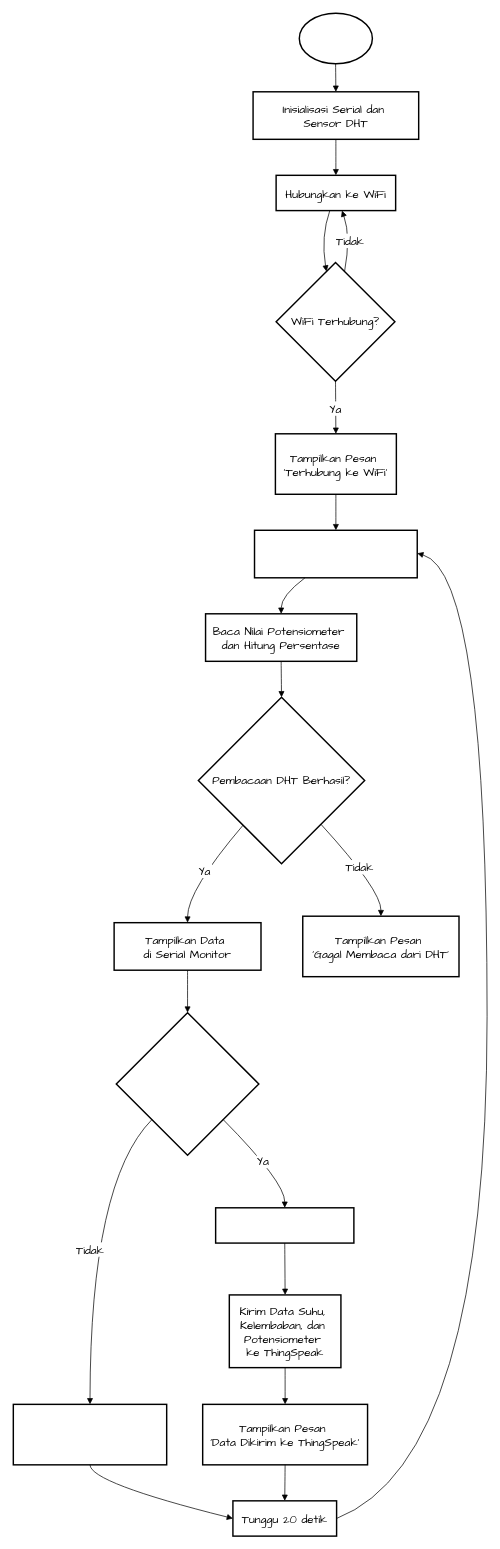
Image size: 500x1549. Some labels were removed from this diagram. The shapes that lost their labels are listed below. From the top down, each one's centre as x and y in pixels, then its label:
(x=335, y=38): Mulai
(x=335, y=553): Baca Suhu dan Kelembaban dari DHT
(x=187, y=1084): WiFi Terhubung ke ThingSpeak?
(x=284, y=1225): Koneksi ke ThingSpeak
(x=89, y=1434): Tampilkan Pesan 'Gagal Terhubung ke ThingSpeak'
